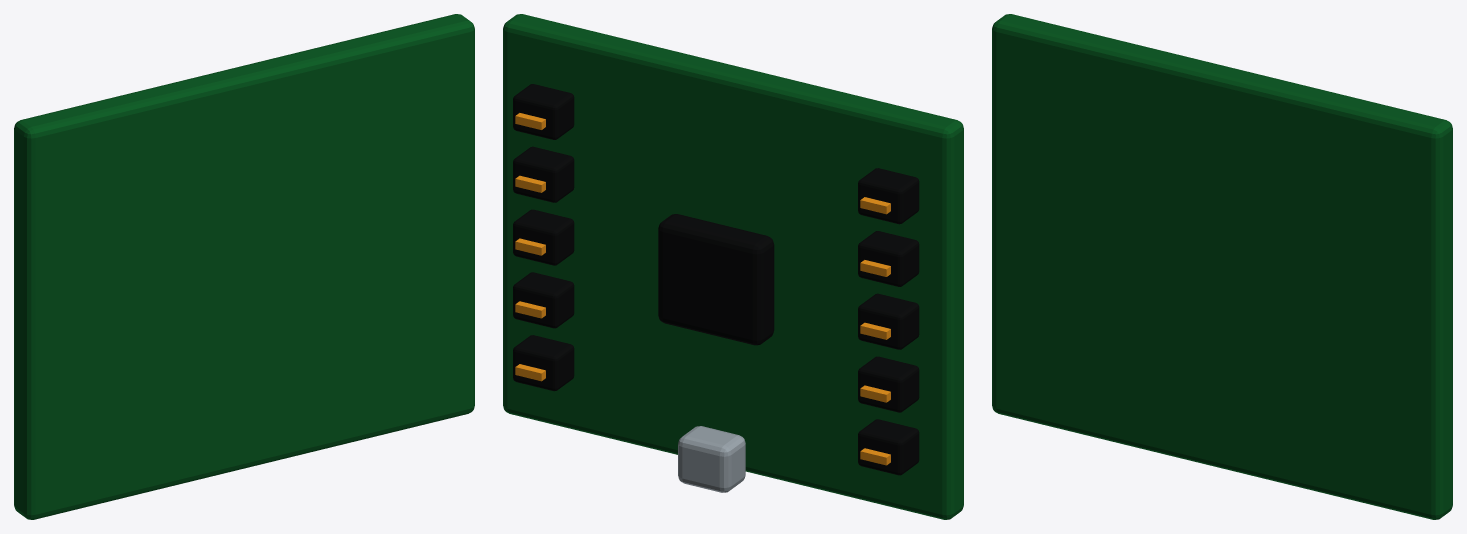
Rendered from modular_controller.obj.
3 views of the same model, side by side, from view 1: azimuth 30°, elevation 25°; view 2: azimuth 150°, elevation 25°; view 3: azimuth 330°, elevation 25° (orthographic).
Visible parts, largest first — view 1: modular_controller; view 2: modular_controller; view 3: modular_controller.
Part boxes in pixels (<box>): modular_controller: <box>14,14,474,519</box>; modular_controller: <box>503,14,963,519</box>; modular_controller: <box>992,14,1452,519</box>.
Size of the model in its own units: 0.12 by 0.101 by 0.019.
